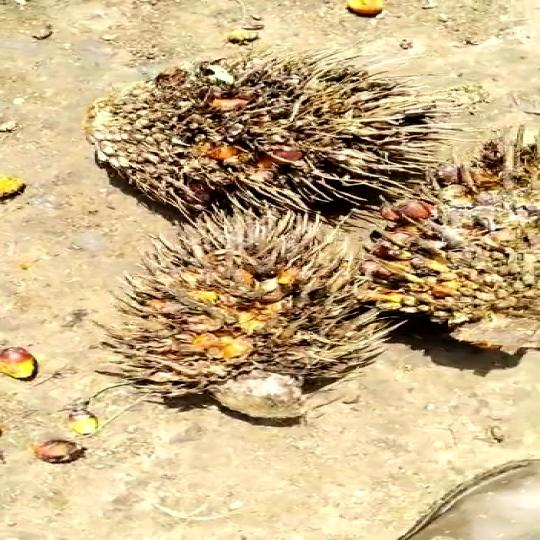terlalu masak: (98, 202, 384, 428), (80, 57, 455, 220)
